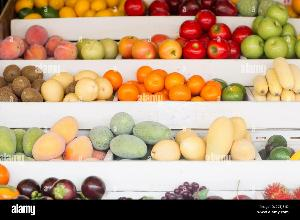apple: (241, 0, 300, 58)
kiwi: (0, 57, 50, 105)
orange: (105, 59, 222, 106)
peach: (0, 24, 82, 61)
tomato: (119, 6, 251, 60)
